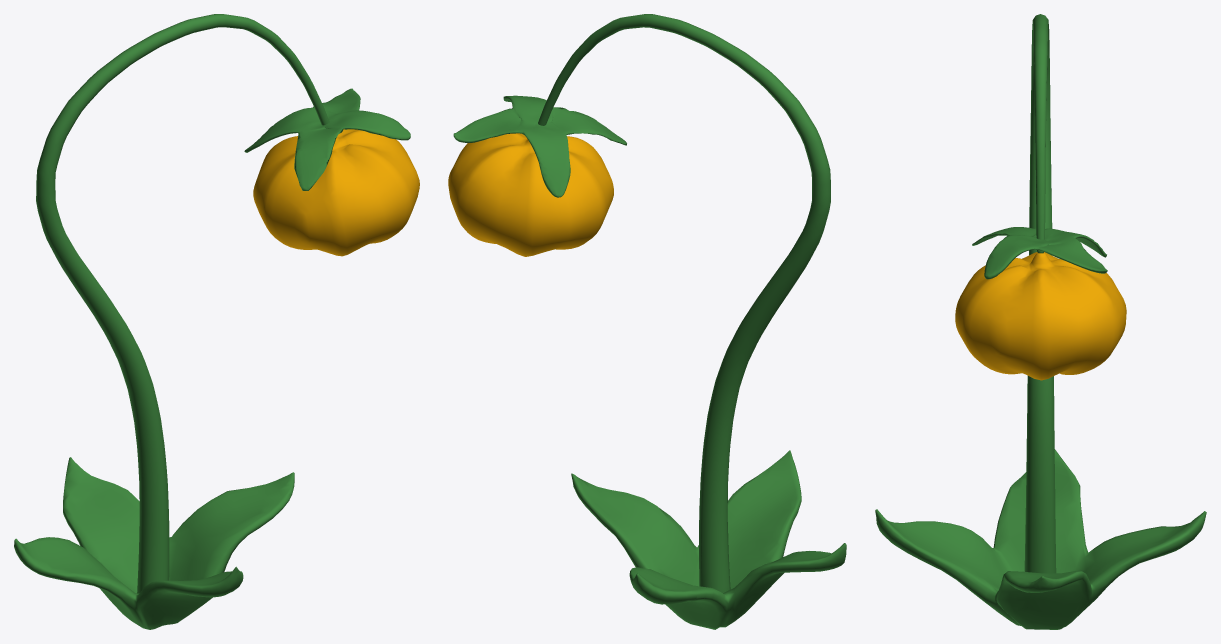
The model's file is Planta.fbx.
The picture shows the model from 3 angles, left to right: view 1: azimuth 30°, elevation 25°; view 2: azimuth 150°, elevation 25°; view 3: azimuth 270°, elevation 25°; orthographic projection. The views are drawn at different scales.
Parts seen in each view (by area): view 1: pCube161, pSphere10; view 2: pCube161, pSphere10; view 3: pCube161, pSphere10.
Part boxes in pixels (bbox=[...]): pCube161: bbox=[14, 14, 410, 629]; pSphere10: bbox=[253, 129, 419, 256]; pCube161: bbox=[453, 14, 846, 629]; pSphere10: bbox=[448, 133, 613, 256]; pCube161: bbox=[875, 14, 1206, 629]; pSphere10: bbox=[955, 252, 1126, 380].
Bounding box in the file's own units: 1.72 × 2.49 × 1.23.
